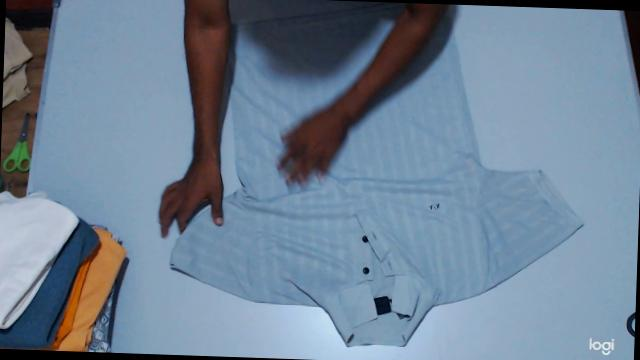new-garment: (171, 5, 582, 346)
